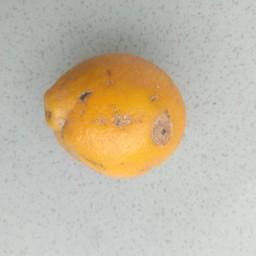Bad_orange: (39, 49, 191, 180)
